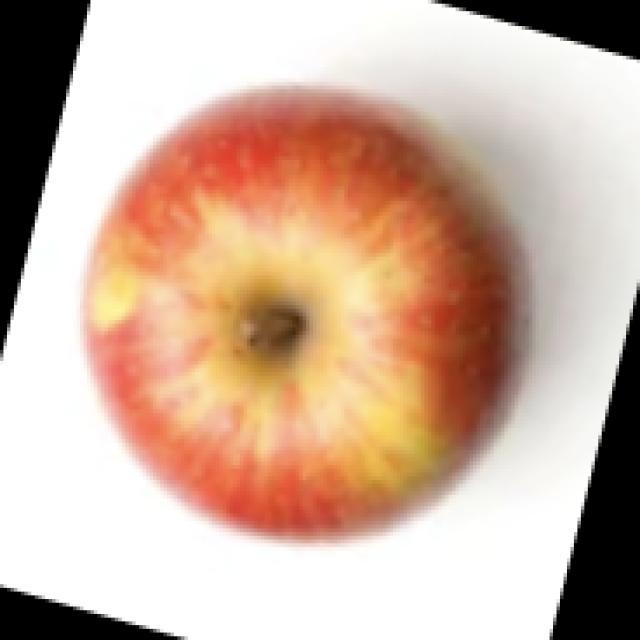Apple: (80, 82, 514, 539)
